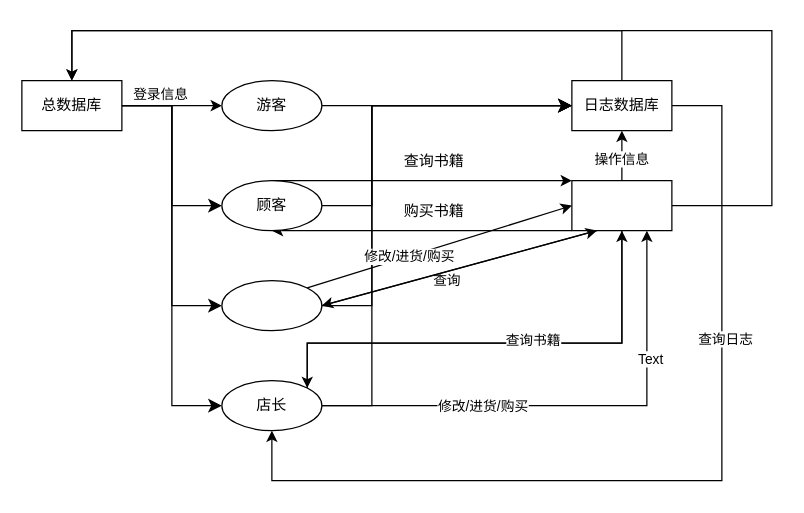
Some shapes in this 804 by 513 pixel diagram are drawn without their labels. Here are the shapes that lost their labels. From the top down, the centre of each, then its label:
pixel 621 205: 书籍数据库
pixel 271 305: 销售
